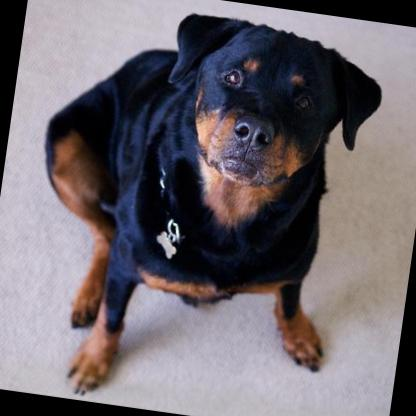Rottweiler: (8, 0, 387, 416)
